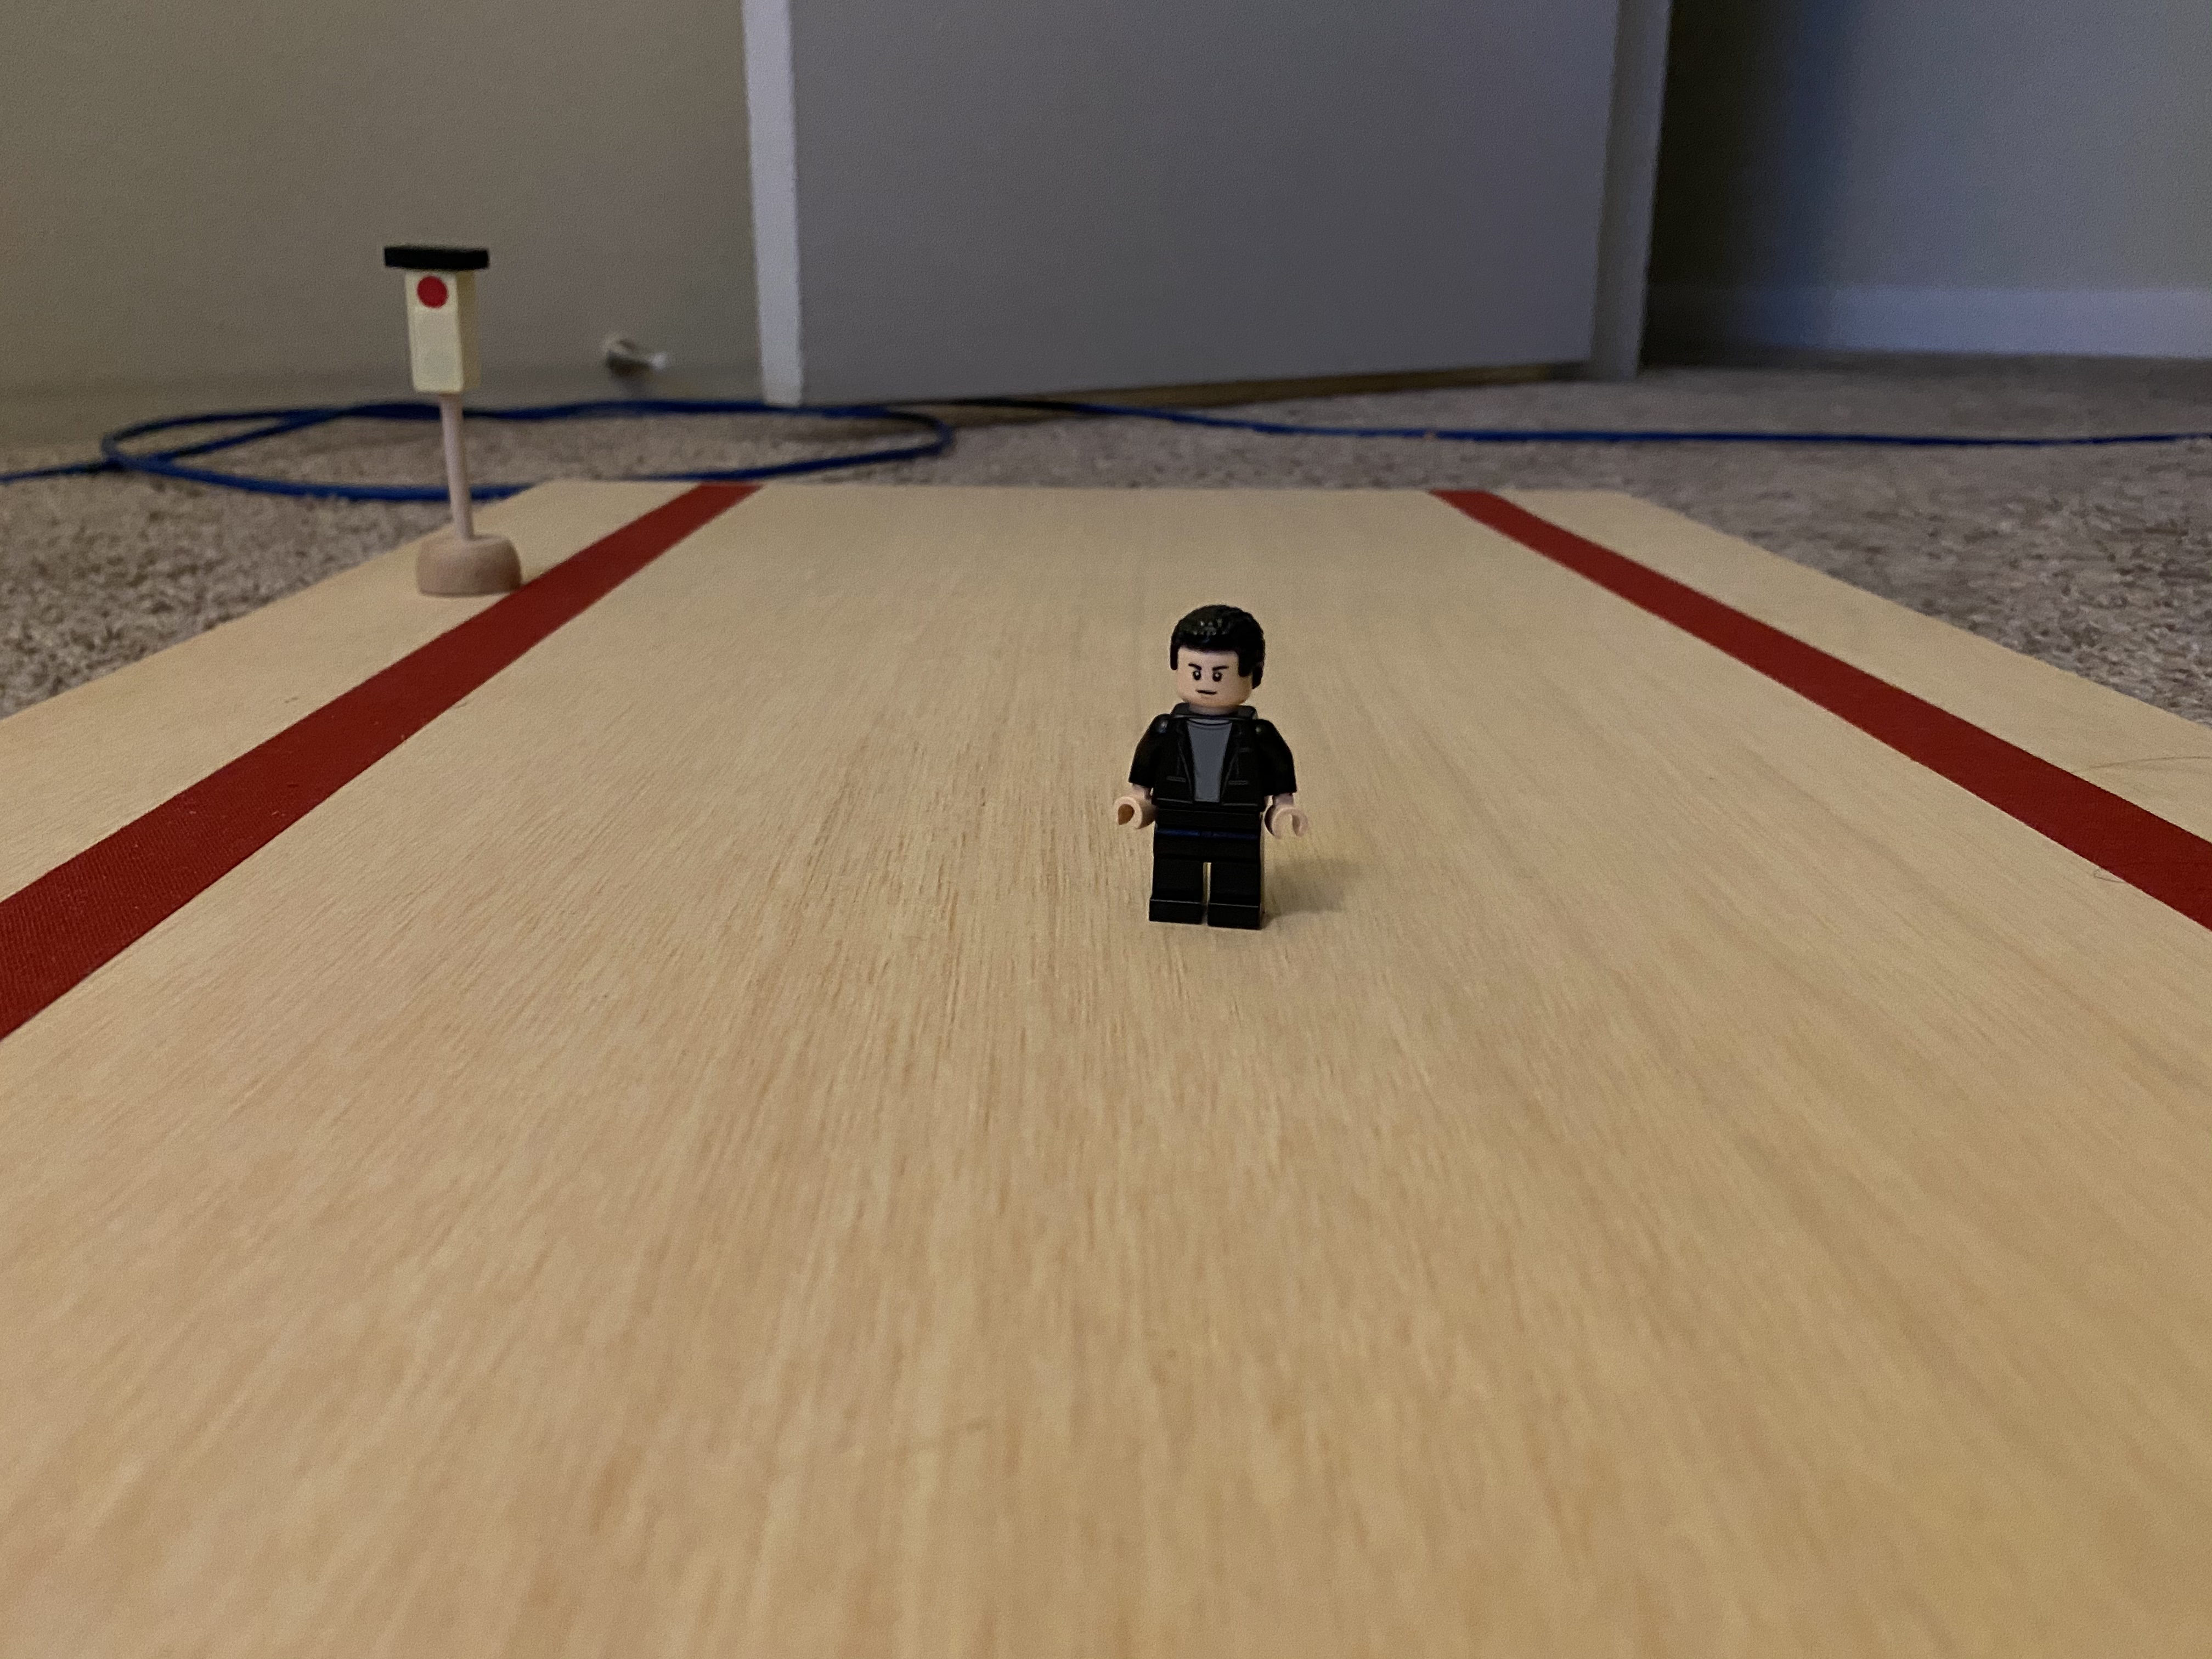Person: (1102, 605, 1325, 939)
Red Traffic Light: (374, 235, 498, 409)
